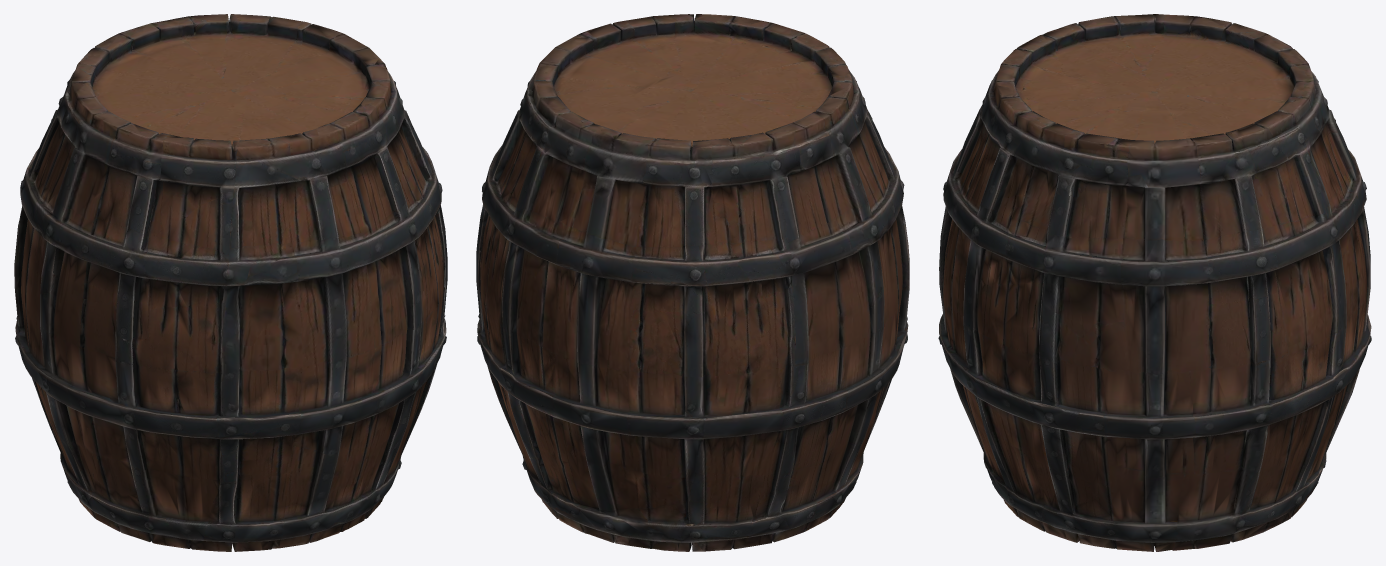
The model's file is barrel.glb.
3 views of the same model, side by side, from view 1: azimuth 30°, elevation 25°; view 2: azimuth 150°, elevation 25°; view 3: azimuth 270°, elevation 25° (orthographic).
Bounding box in the file's own units: 1.84 × 1.9 × 1.84.
Materials: 1 (1 with a texture image).
